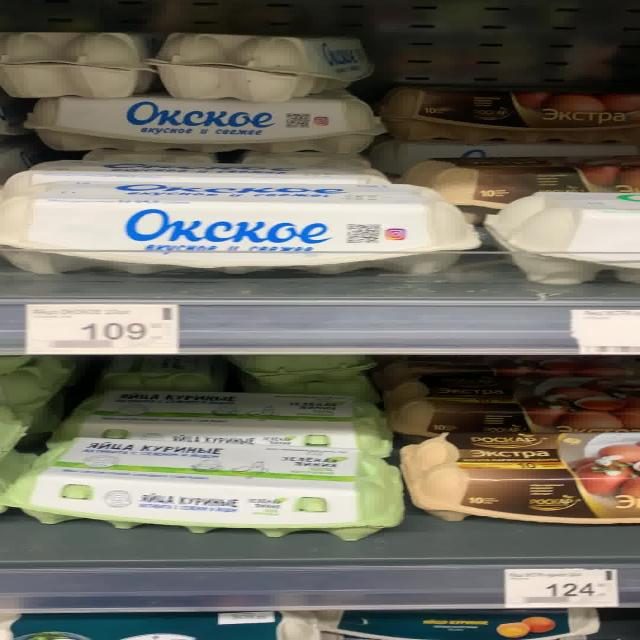egg box: (9, 166, 471, 282), (21, 437, 402, 541), (14, 96, 404, 161), (66, 376, 366, 436)
